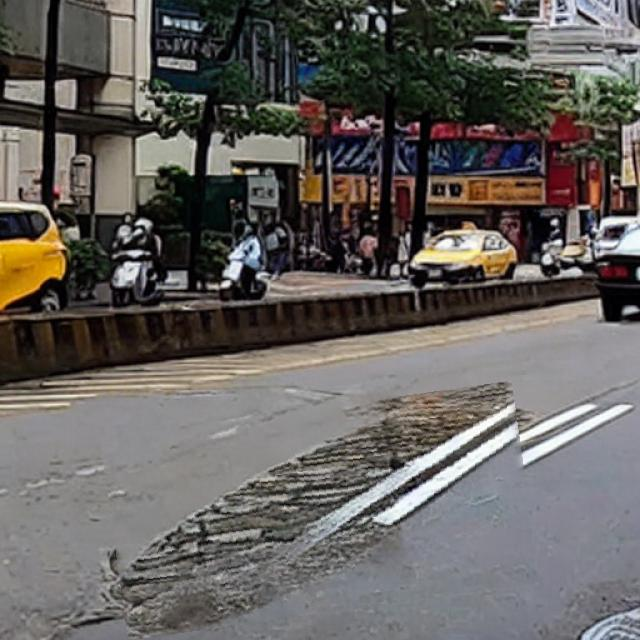puddle: (107, 396, 535, 628)
